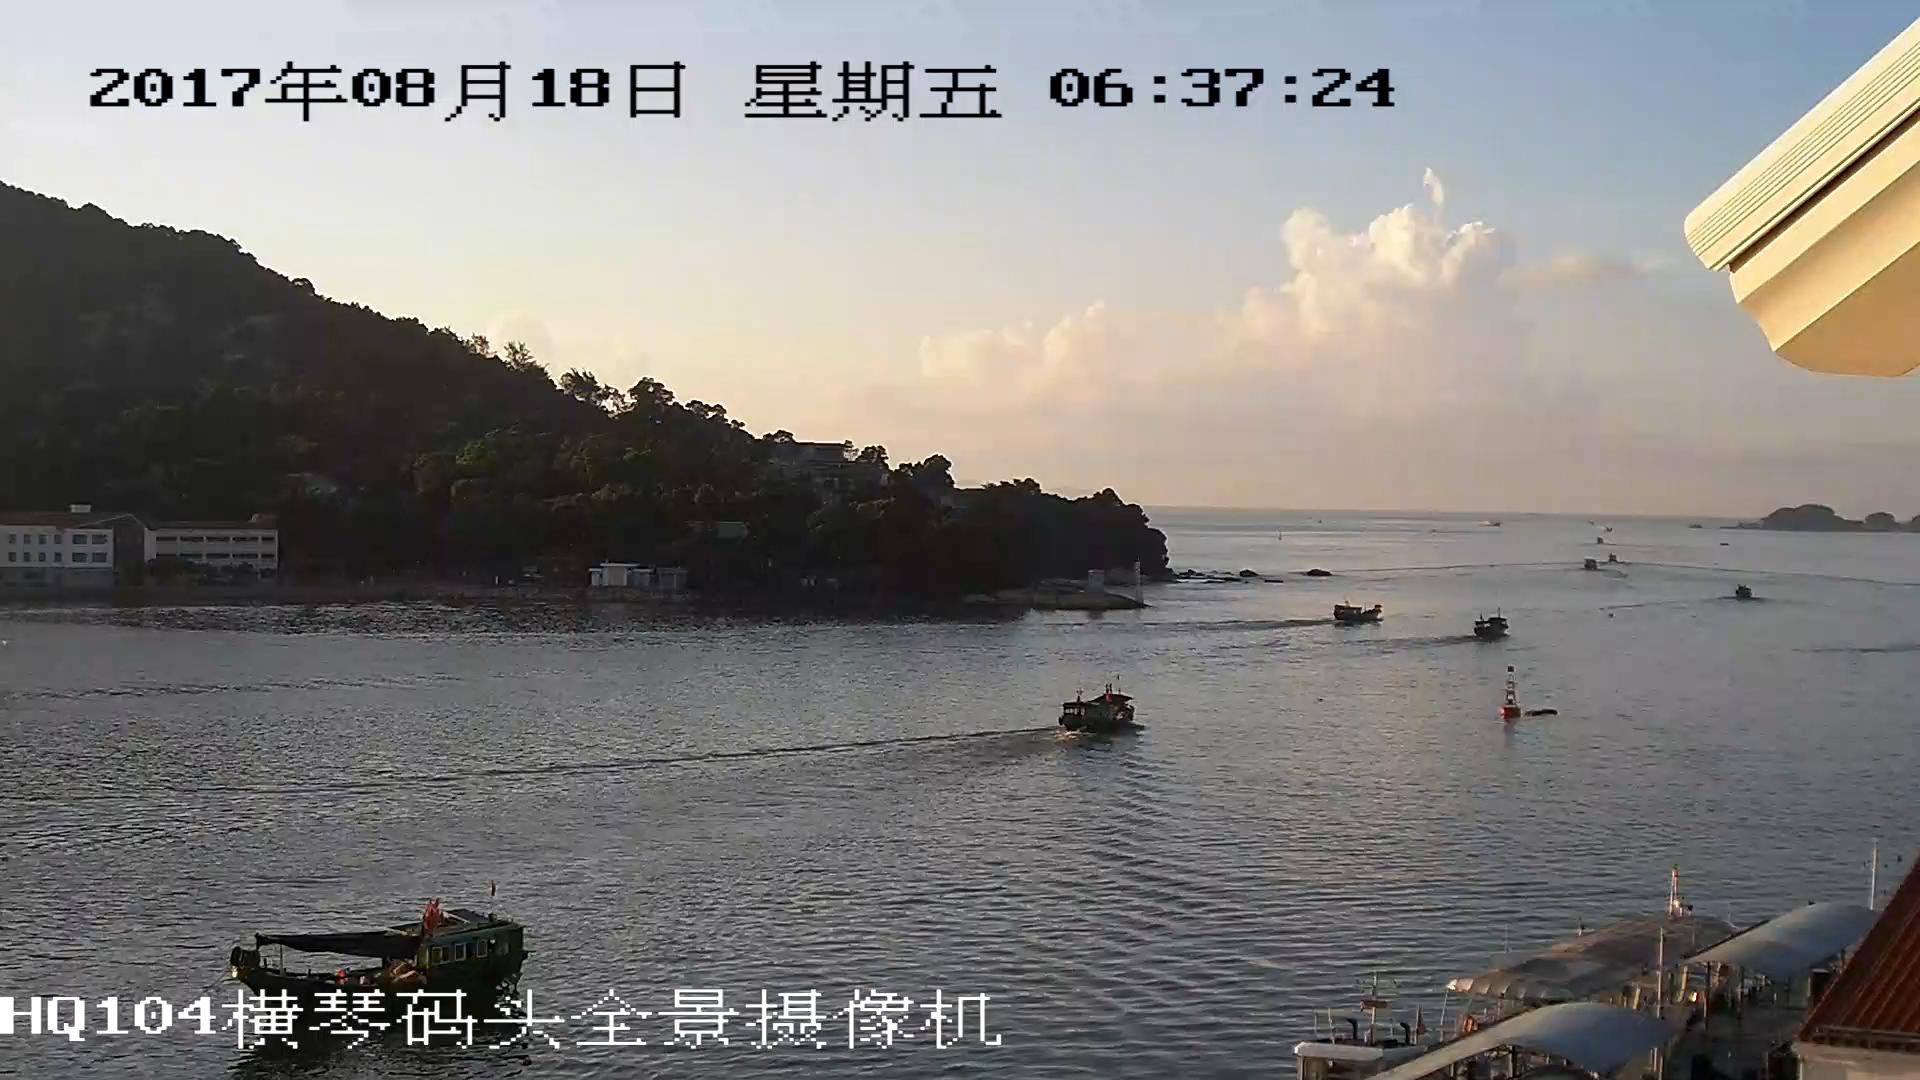fishing boat: (229, 908, 531, 990), (1057, 690, 1134, 727), (1334, 602, 1380, 624)
